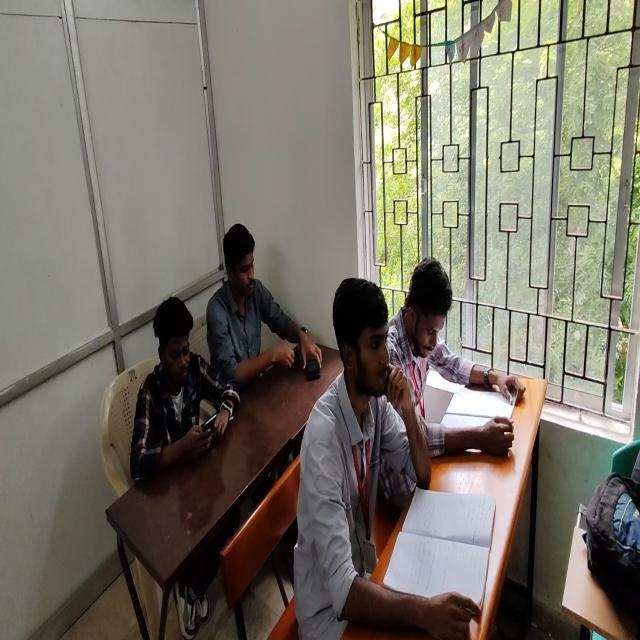reading: (308, 275, 461, 640), (392, 253, 528, 495)
using_mobile: (128, 294, 244, 484), (204, 222, 313, 398)
